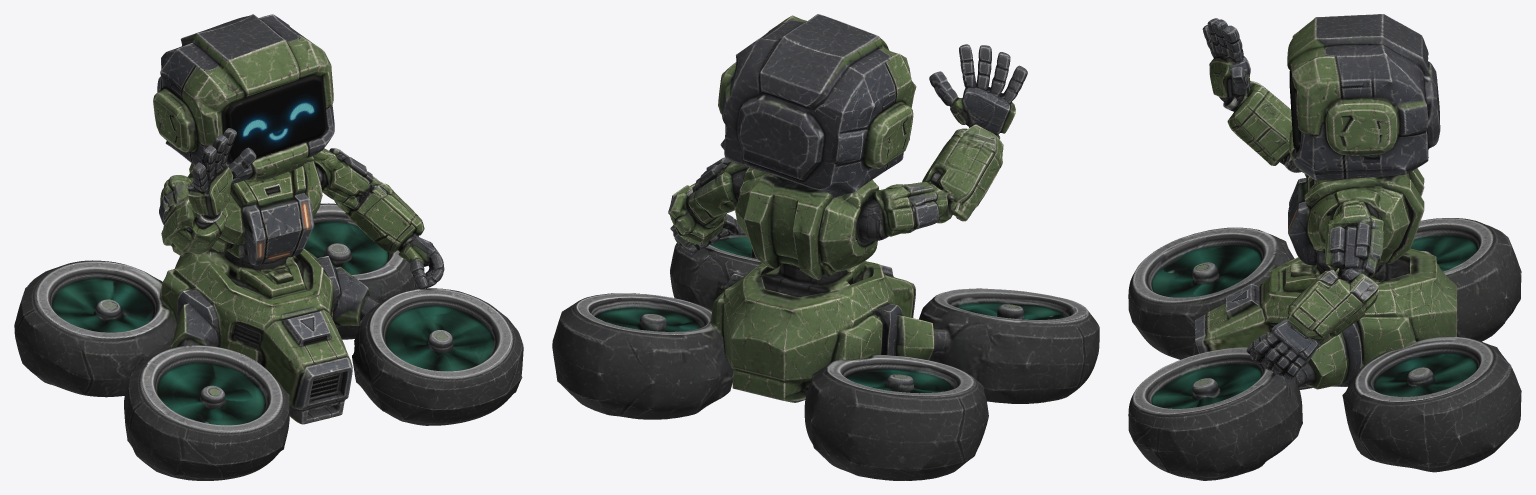
File: Hoverbot_flying.glb
The picture shows the model from 3 angles, left to right: view 1: azimuth 30°, elevation 25°; view 2: azimuth 150°, elevation 25°; view 3: azimuth 270°, elevation 25°; orthographic projection. The views are drawn at different scales.
Size of the model in its own units: 1.9 by 1.7 by 1.63.
Materials: 1 (1 with a texture image).
